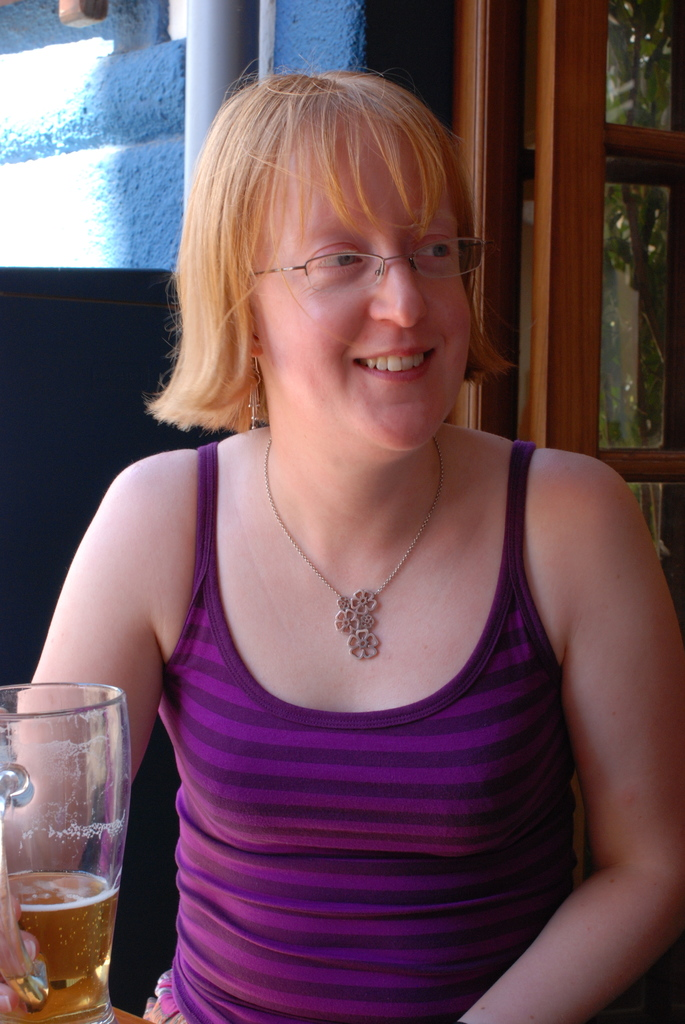Beer: (0, 671, 131, 1023)
